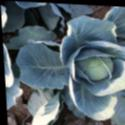cabbage: (75, 48, 116, 89)
